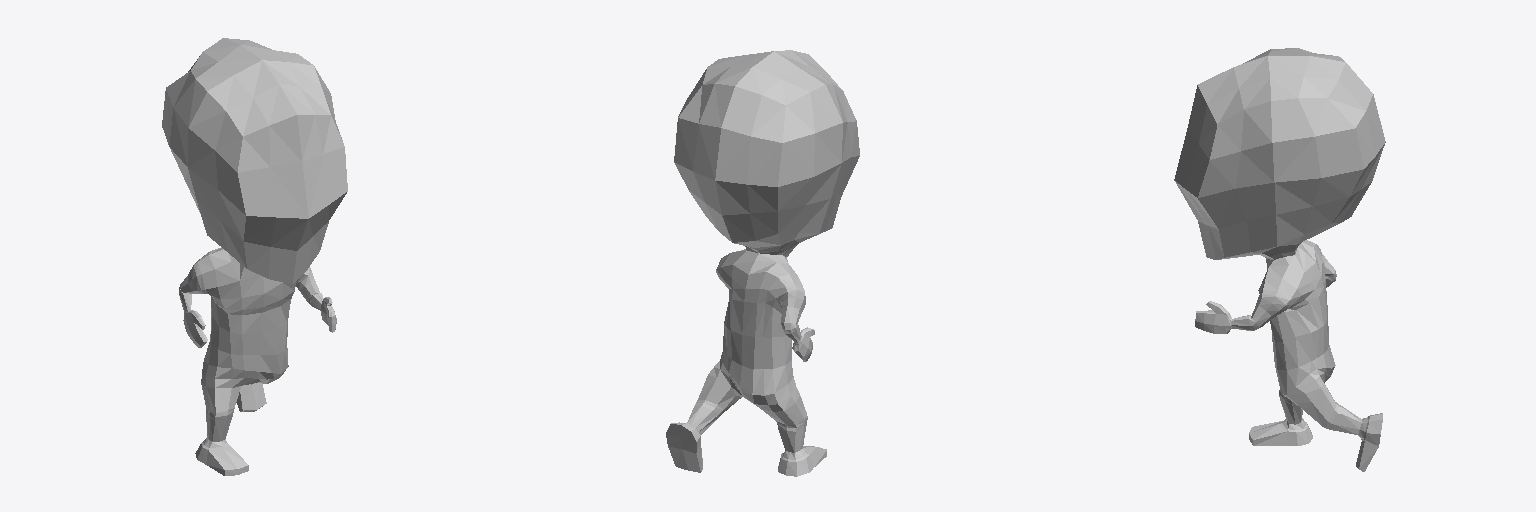
Rendered from char_000010.obj.
3 views of the same model, side by side, from view 1: azimuth 30°, elevation 25°; view 2: azimuth 150°, elevation 25°; view 3: azimuth 270°, elevation 25° (orthographic).
Visible parts, largest first — view 1: lp_guy_mesh_Cube; view 2: lp_guy_mesh_Cube; view 3: lp_guy_mesh_Cube.
Boxes of the visible parts, <box> form: lp_guy_mesh_Cube: <box>162,38,347,475</box>; lp_guy_mesh_Cube: <box>666,50,859,476</box>; lp_guy_mesh_Cube: <box>1174,48,1385,471</box>.
Bounding box in the file's own units: 0.7344 × 1.97 × 0.9444.